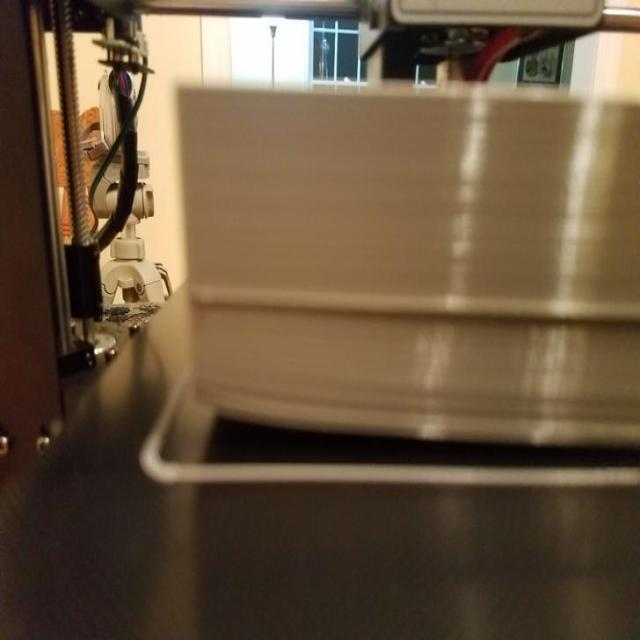Warping: (130, 374, 479, 508)
